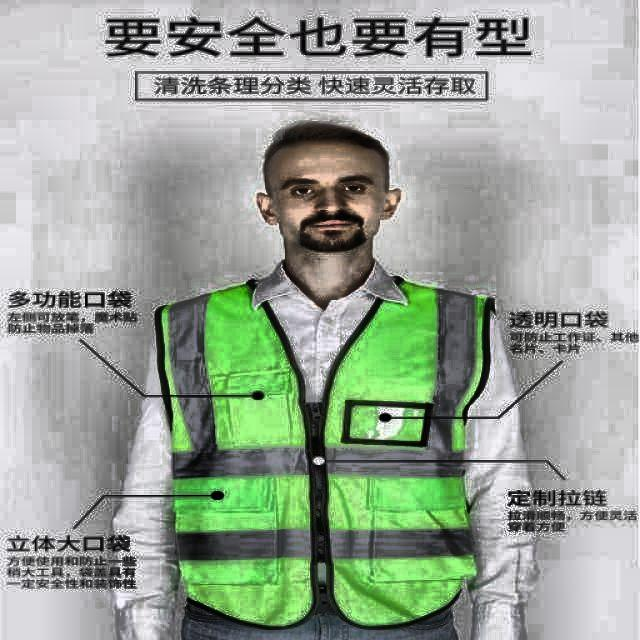safety_jacket: (150, 284, 494, 616)
